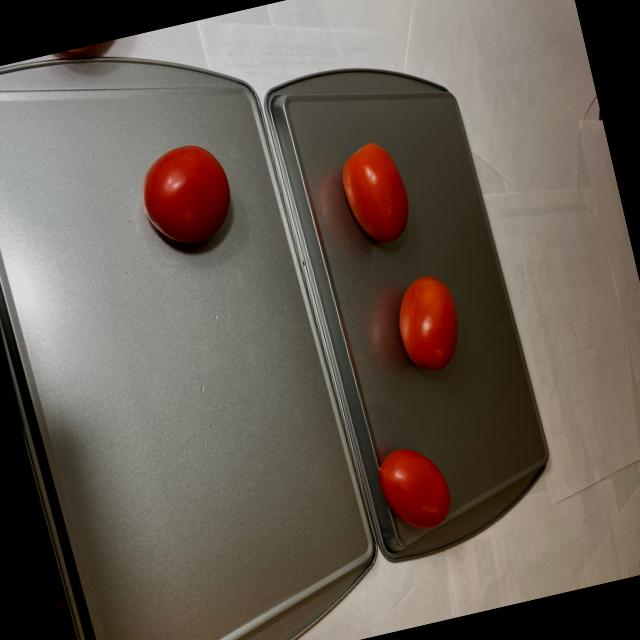tomato: (324, 120, 470, 388), (125, 124, 245, 260), (370, 438, 454, 538)
